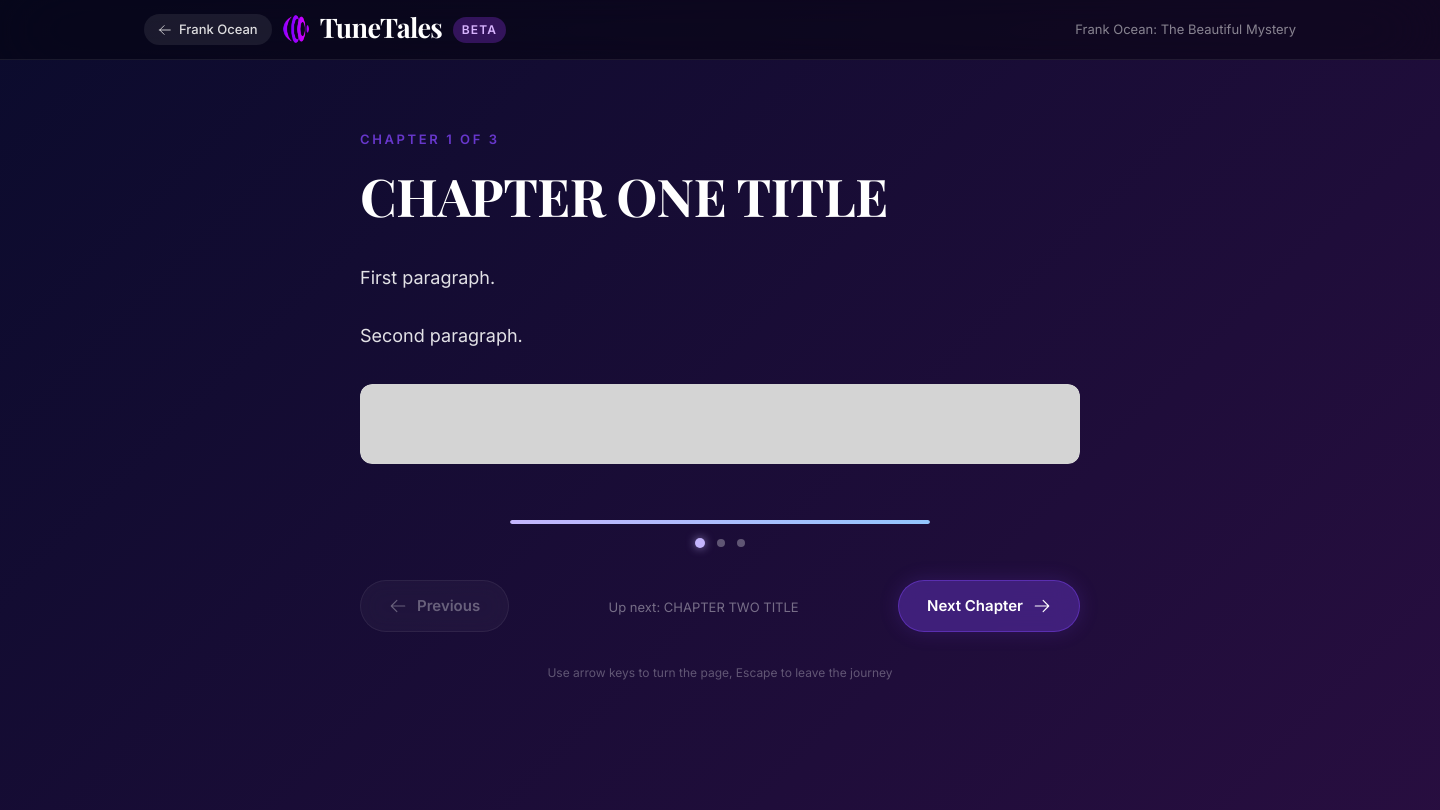
Scenario: JourneyClient › jumps directly to a chapter via a progress dot
Click the button named "Go to chapter 3" at (741, 543), box x1=737 y1=539 x2=745 y2=547
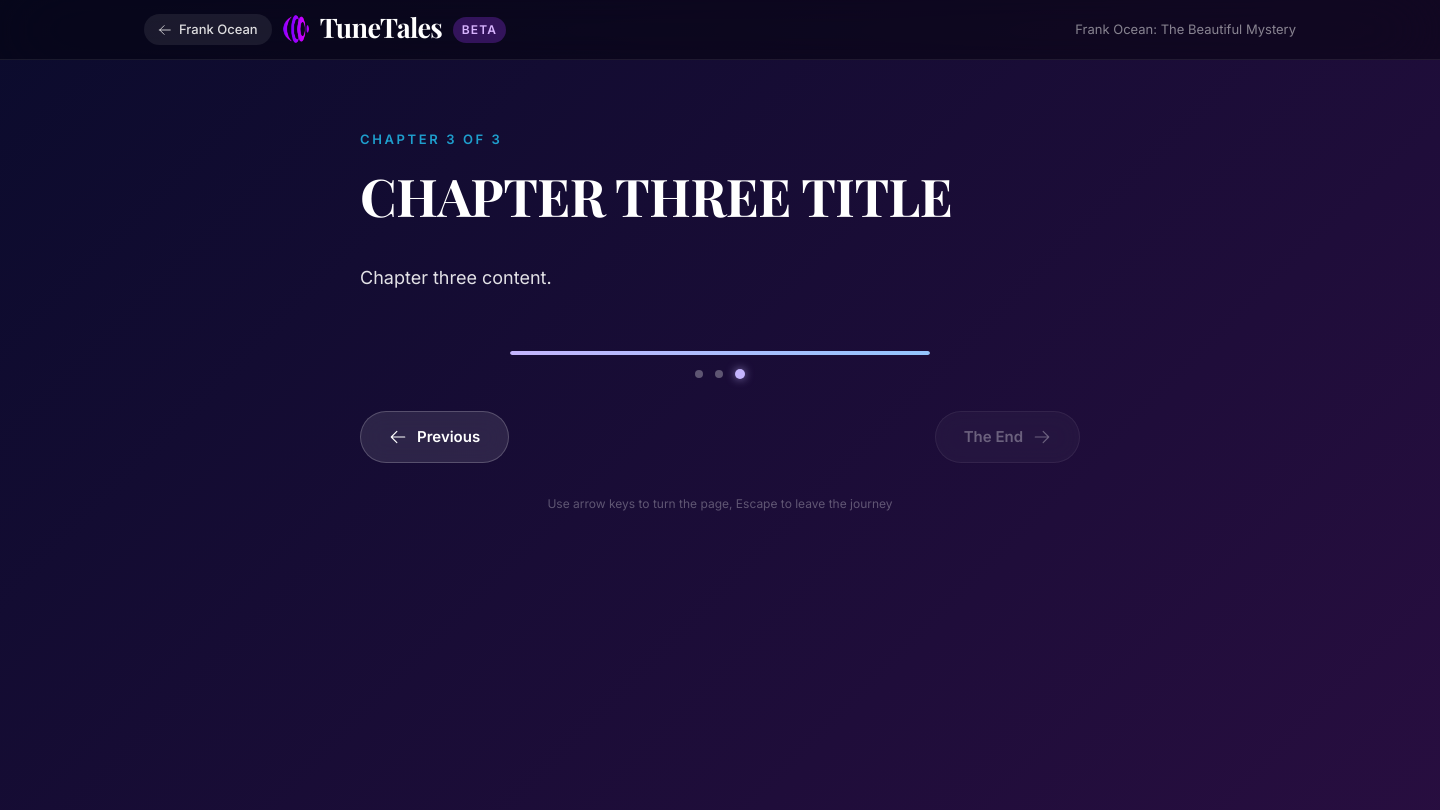
Result: the heading "CHAPTER THREE TITLE" is shown at x1=360 y1=160 x2=952 y2=230
